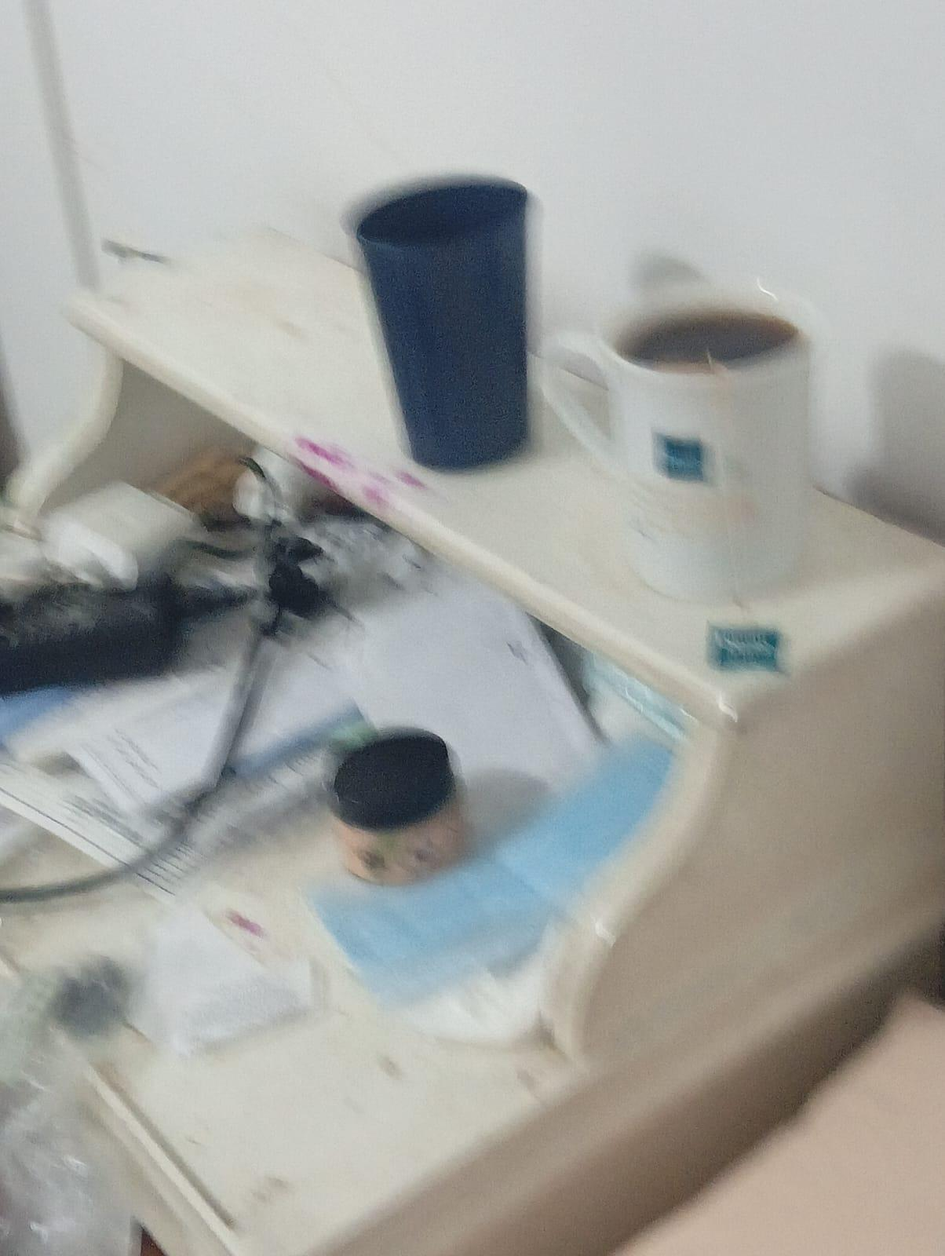cup: (542, 284, 811, 600), (355, 181, 527, 469)
